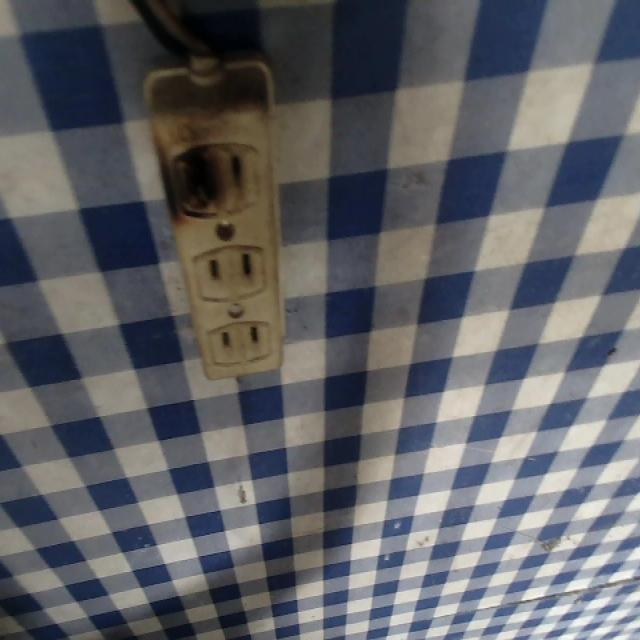-: (154, 139, 225, 220)
